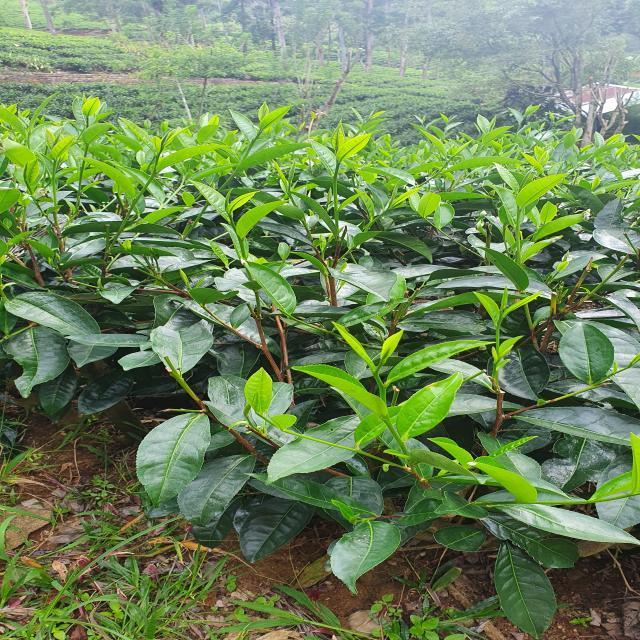Stem: (379, 386, 387, 394), (370, 220, 374, 224), (517, 211, 520, 216), (336, 164, 339, 169), (499, 317, 503, 320), (161, 146, 164, 150), (259, 131, 262, 134), (53, 163, 55, 167), (229, 215, 231, 218), (28, 140, 29, 143)
